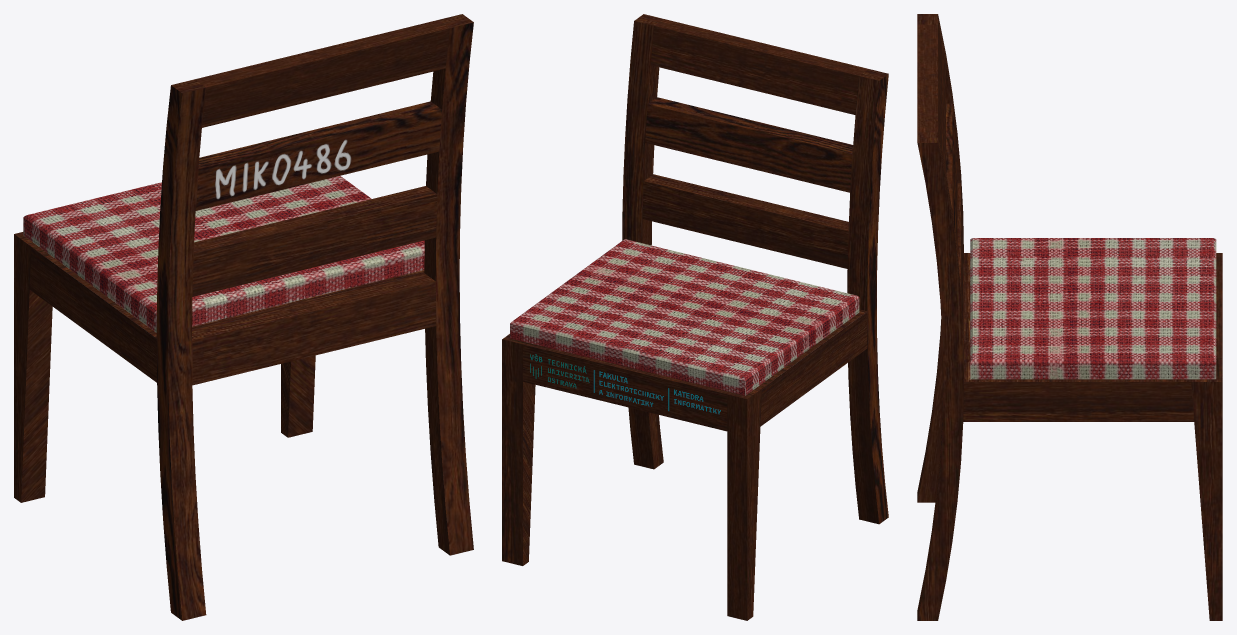
The model's file is chairTitled.fbx.
3 renders of one model, left to right at view 1: azimuth 30°, elevation 25°; view 2: azimuth 150°, elevation 25°; view 3: azimuth 270°, elevation 25°, orthographic. The views are drawn at different scales.
Parts seen in each view (by area): view 1: ZidleA1; view 2: ZidleA1; view 3: ZidleA1.
Boxes of the visible parts, bbox=[...] form: ZidleA1: bbox=[14, 14, 473, 620]; ZidleA1: bbox=[502, 14, 888, 620]; ZidleA1: bbox=[917, 14, 1222, 620].
Bounding box in the file's own units: 97.78 × 169 × 97.78.
1 material, 1 textured.
